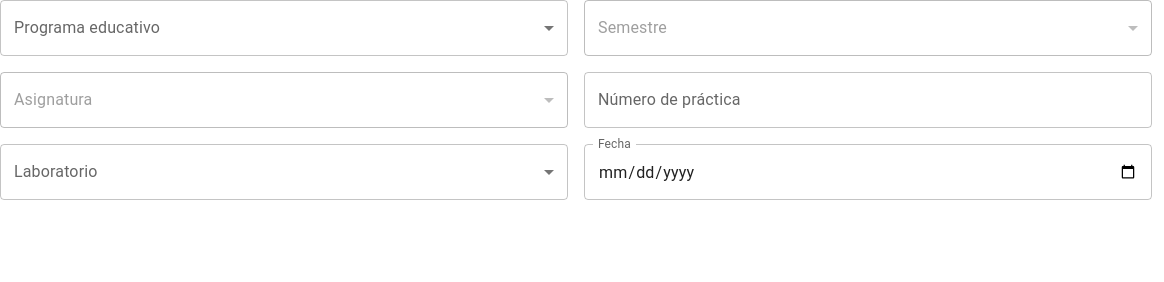
DatosPractica › el laboratorio dice de qué almacén es
What coordinates should you click on to do the following:
click the dropdown named "Laboratorio" next to "Laboratorio"
I would click on:
 (284, 172)
Its box is left=0, top=144, right=568, bottom=200.
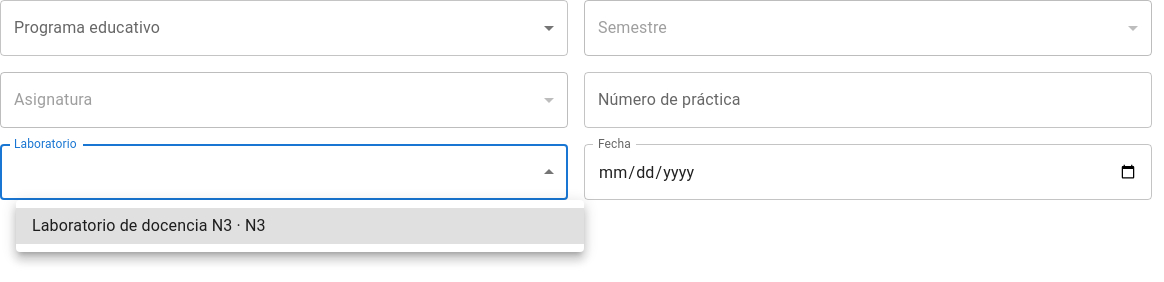
Check: the option "Laboratorio de docencia N3 · N3" is shown, box left=16, top=208, right=584, bottom=244
